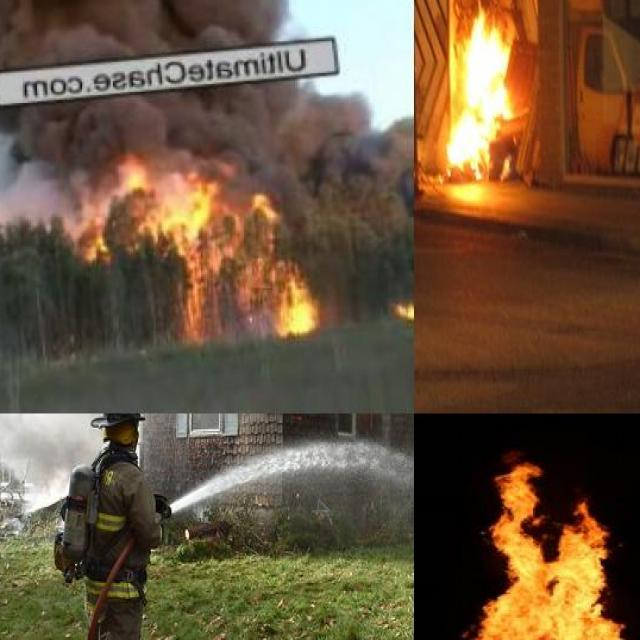fire: (456, 456, 640, 640), (451, 0, 523, 165), (80, 172, 132, 260), (162, 172, 225, 240), (274, 272, 322, 338), (248, 187, 288, 230)
smoke: (78, 100, 372, 172), (0, 112, 80, 224)
